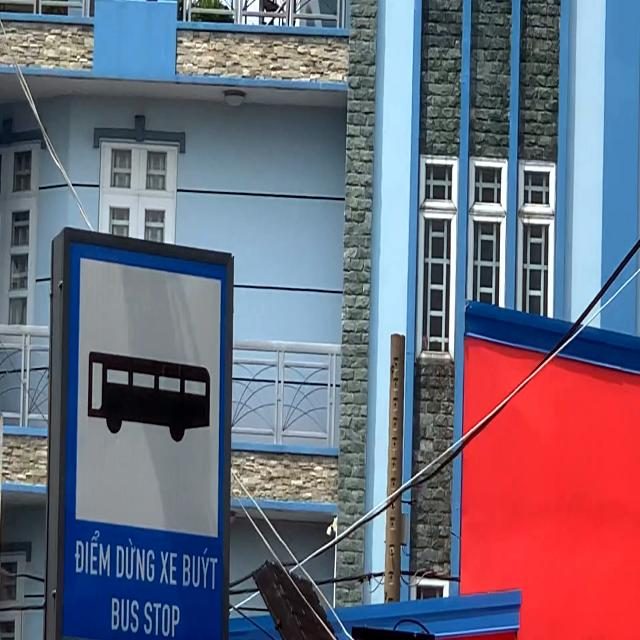R.434: (60, 236, 231, 640)
